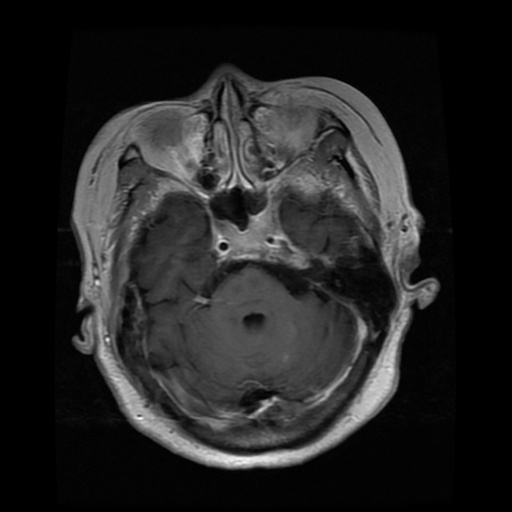pituitary: (211, 210, 285, 261)
